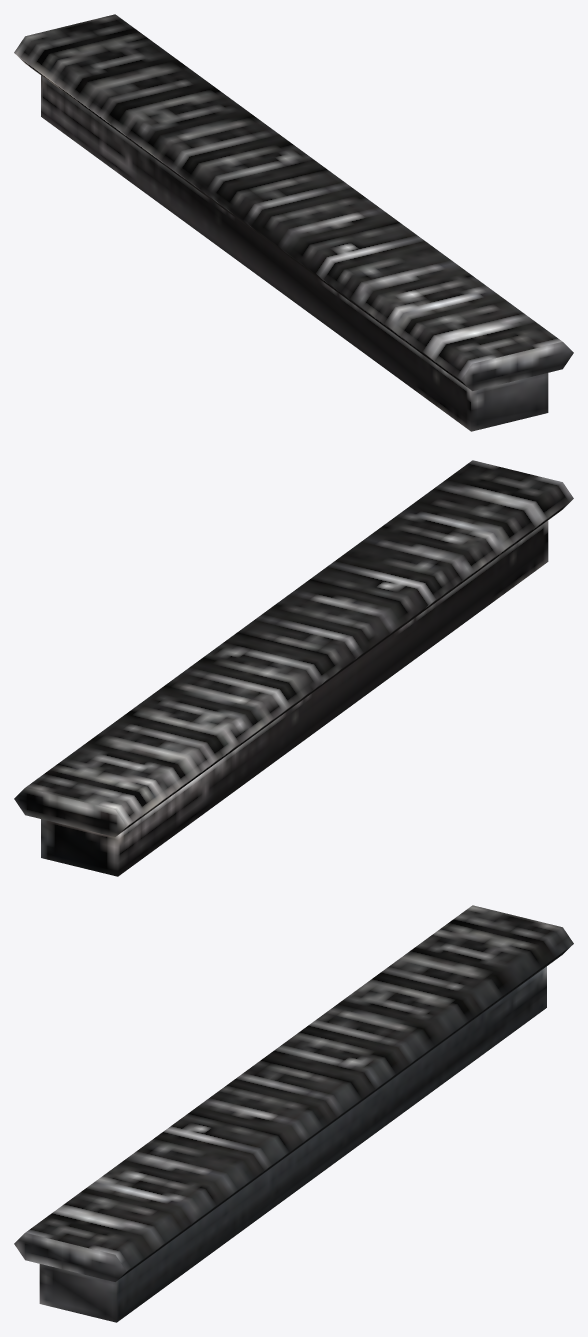
The model's file is PicatinnyRail_WM.fbx.
The picture shows the model from 3 angles, top to bottom: view 1: azimuth 30°, elevation 25°; view 2: azimuth 150°, elevation 25°; view 3: azimuth 330°, elevation 25°; orthographic projection.
Parts seen in each view (by area): view 1: PicatinnyRail; view 2: PicatinnyRail; view 3: PicatinnyRail.
Part boxes in pixels (left/top/right/bottom): PicatinnyRail: left=14, top=14, right=573, bottom=431; PicatinnyRail: left=14, top=460, right=573, bottom=876; PicatinnyRail: left=14, top=905, right=573, bottom=1322.
Size of the model in its own units: 0.00943 by 0.00604 by 0.0649.
